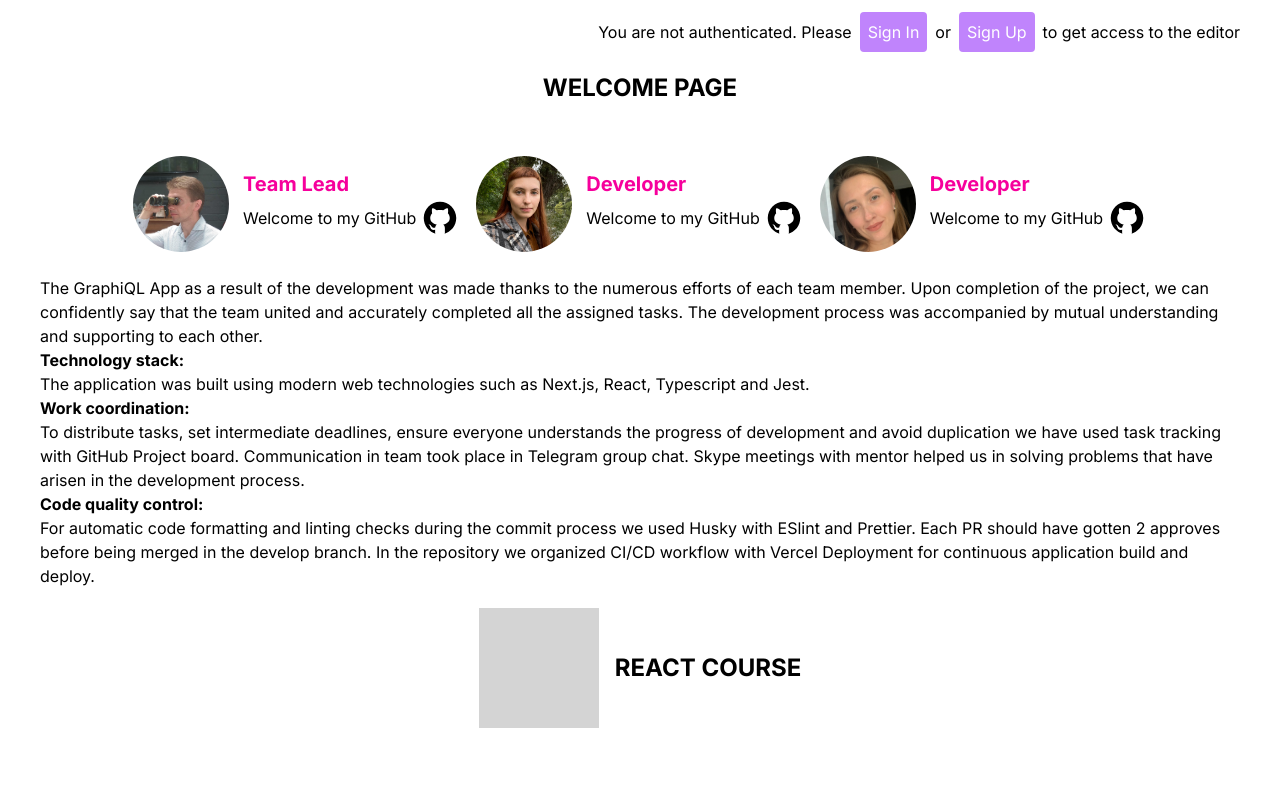
Scenario: Home component: › should open popup
Step 1. Click the picture with alt text "Lyubov Agulova" → x=524, y=204, box [476, 156, 572, 252]
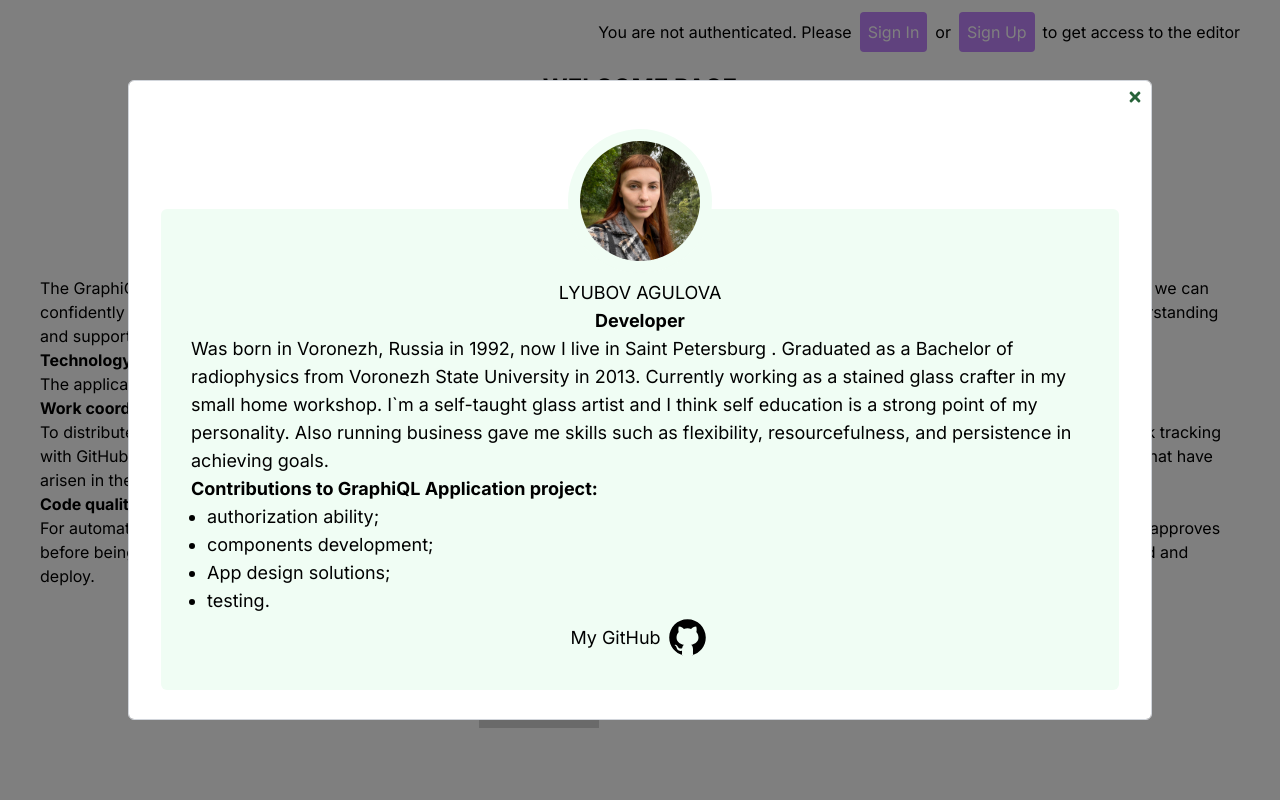
Expected: the text "Contributions to GraphiQL" is shown, [191, 478, 598, 499]
